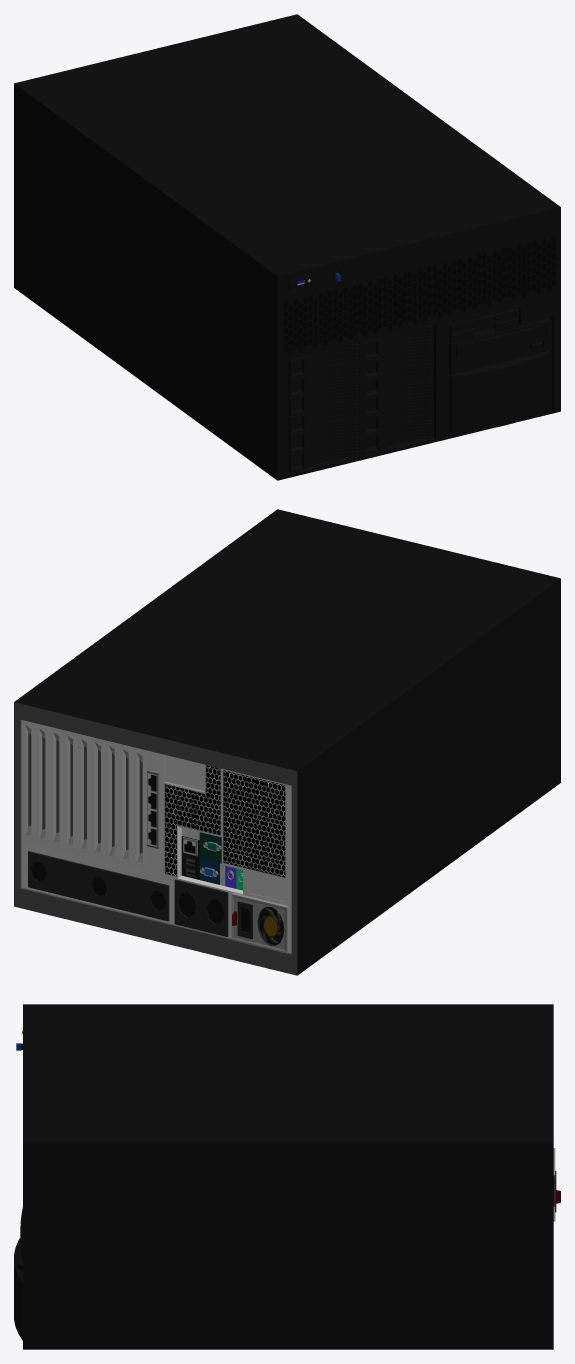
The model's file is IBM_X260.fbx.
3 renders of one model, top to bottom at view 1: azimuth 30°, elevation 25°; view 2: azimuth 150°, elevation 25°; view 3: azimuth 270°, elevation 25°, orthographic.
Parts seen in each view (by area): view 1: IBM_X260; view 2: IBM_X260; view 3: IBM_X260.
Part boxes in pixels (x1,y1,x2,y2): IBM_X260: [14, 14, 560, 480]; IBM_X260: [14, 509, 560, 975]; IBM_X260: [14, 1004, 560, 1349].
Size of the model in its own units: 444 by 306 by 737.
27 materials, 1 textured.
